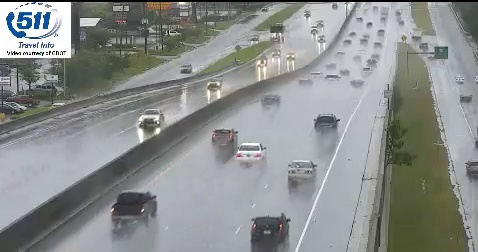car: (111, 191, 158, 221), (251, 214, 289, 241), (236, 143, 265, 163), (289, 161, 316, 181), (211, 128, 237, 146), (314, 114, 337, 132)
